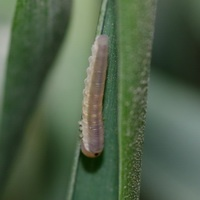insect: (79, 35, 107, 157)
